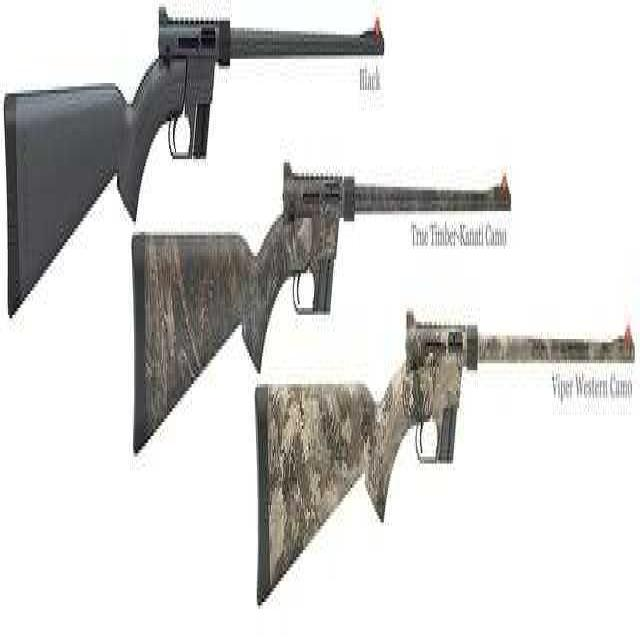heavyweapon: (237, 261, 635, 635), (112, 136, 529, 454), (1, 1, 416, 299)
